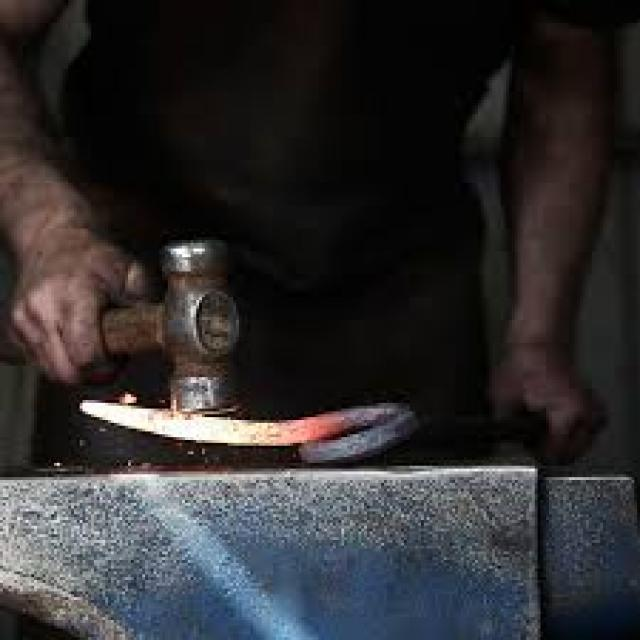hammer: (0, 212, 316, 437)
